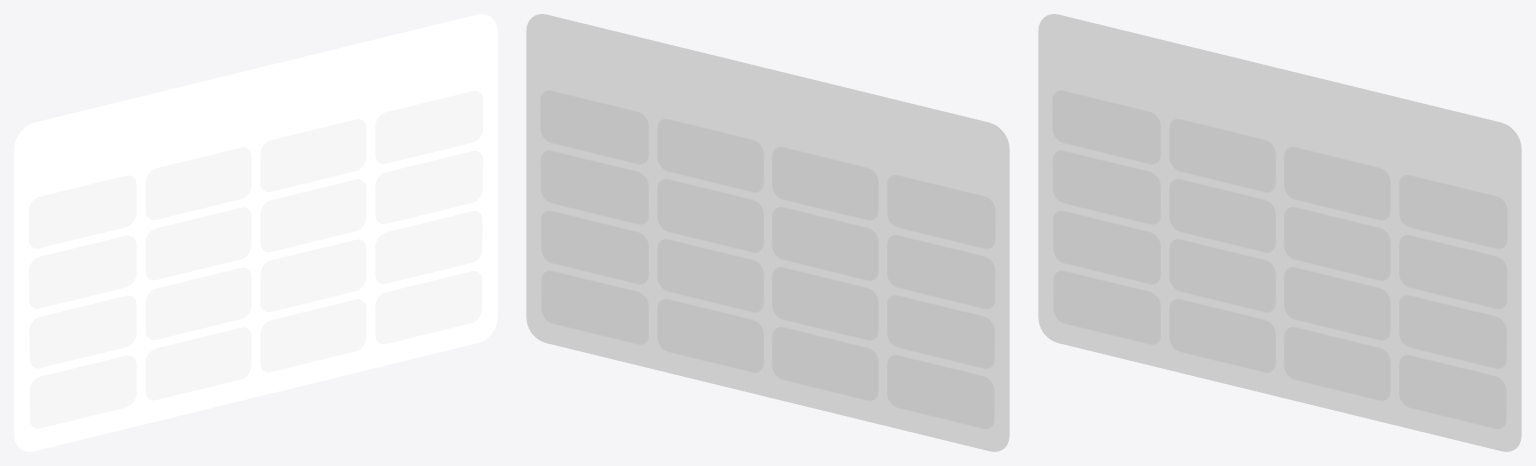
Rendered from calendar_bg.glb.
3 renders of one model, left to right at view 1: azimuth 30°, elevation 25°; view 2: azimuth 150°, elevation 25°; view 3: azimuth 330°, elevation 25°, orthographic.
Parts seen in each view (by area): view 1: calendar_bg.001; view 2: calendar_bg.001; view 3: calendar_bg.001.
Part boxes in pixels (x1,y1,x2,y2): calendar_bg.001: (14, 14, 497, 451); calendar_bg.001: (526, 14, 1009, 451); calendar_bg.001: (1038, 14, 1521, 451).
Bounding box in the file's own units: 2 × 1.3 × 5.96e-08.
Materials: 1 (1 with a texture image).
